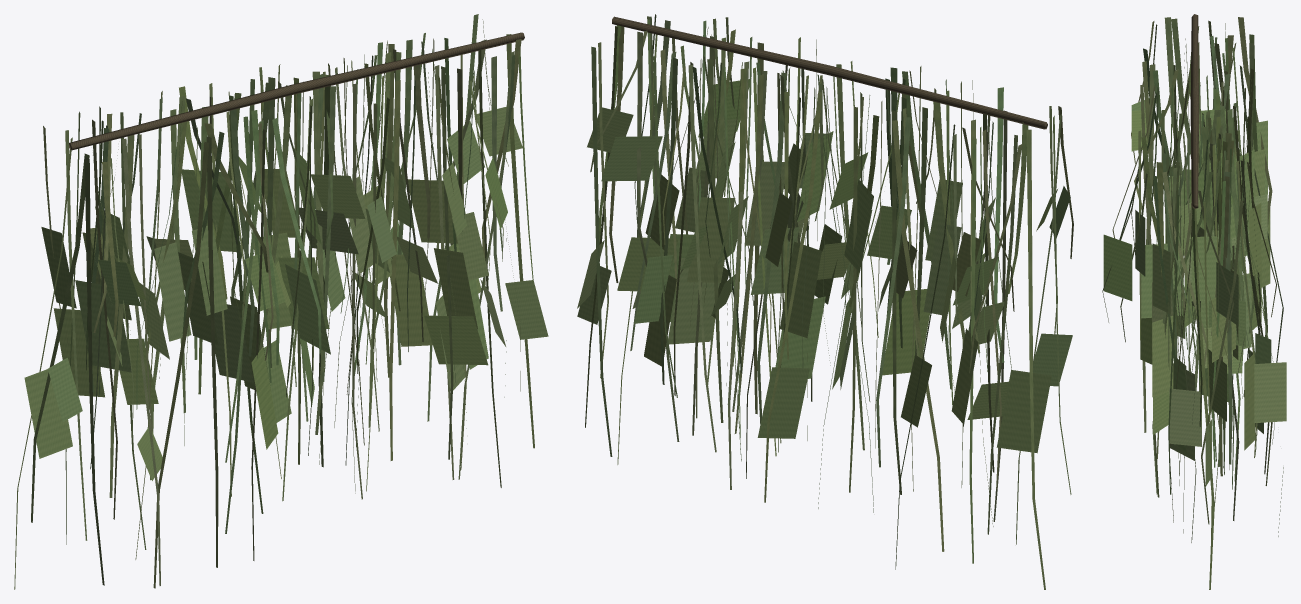
Rendered from PZ_HangingMoss_Drape_A.glb.
3 renders of one model, left to right at view 1: azimuth 30°, elevation 25°; view 2: azimuth 150°, elevation 25°; view 3: azimuth 270°, elevation 25°, orthographic. The views are drawn at different scales.
Visible parts, largest first — view 1: HangingMoss_FineDoubleSided_Ribbons, HangingMoss_CloseFitting_ALPHA_MASK_Tufts, HangingMoss_AttachmentTwigs; view 2: HangingMoss_FineDoubleSided_Ribbons, HangingMoss_CloseFitting_ALPHA_MASK_Tufts, HangingMoss_AttachmentTwigs; view 3: HangingMoss_FineDoubleSided_Ribbons, HangingMoss_CloseFitting_ALPHA_MASK_Tufts, HangingMoss_AttachmentTwigs.
Boxes of the visible parts, x1,y1,x2,y2 form: HangingMoss_FineDoubleSided_Ribbons: (14, 14, 534, 589); HangingMoss_CloseFitting_ALPHA_MASK_Tufts: (24, 106, 548, 480); HangingMoss_AttachmentTwigs: (69, 32, 524, 150); HangingMoss_FineDoubleSided_Ribbons: (585, 14, 1073, 589); HangingMoss_CloseFitting_ALPHA_MASK_Tufts: (577, 79, 1072, 453); HangingMoss_AttachmentTwigs: (612, 16, 1047, 129); HangingMoss_FineDoubleSided_Ribbons: (1102, 17, 1283, 589); HangingMoss_CloseFitting_ALPHA_MASK_Tufts: (1103, 98, 1286, 486); HangingMoss_AttachmentTwigs: (1190, 14, 1198, 208).
Bounding box in the file's own units: 1.54 × 1.34 × 0.5562.
3 materials, 3 textured.
